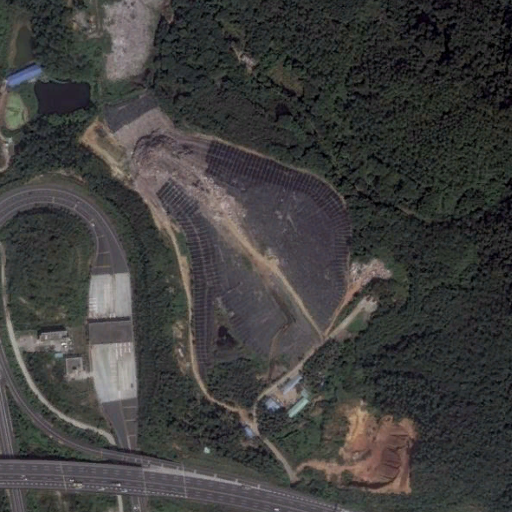lf: (99, 90, 356, 412)
